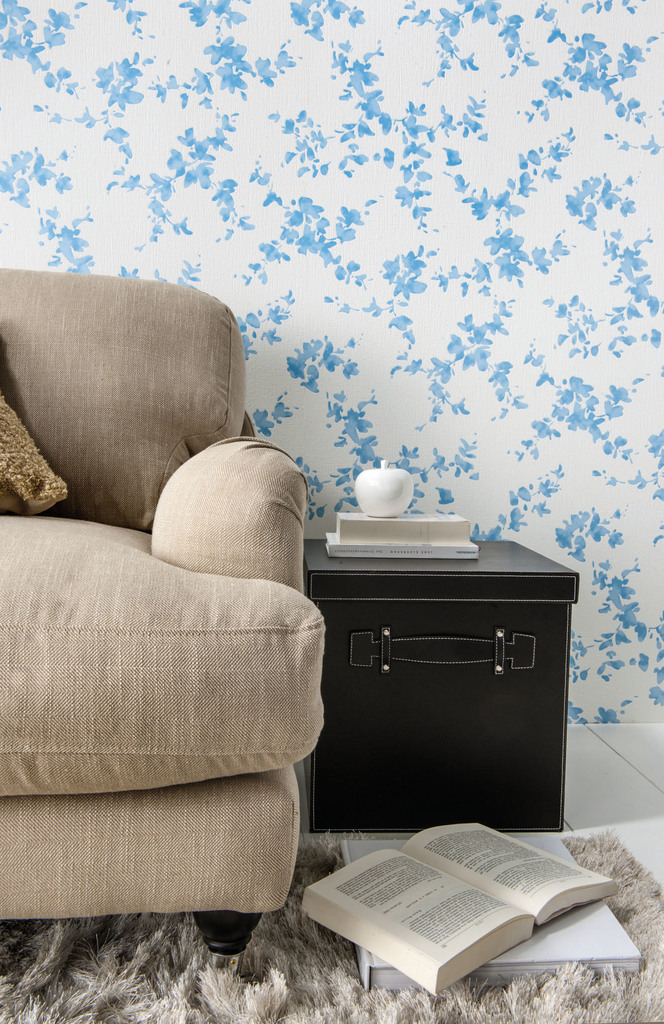Couch: (0, 348, 374, 1024)
